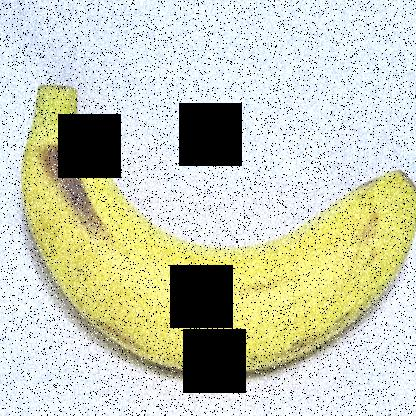freshripe: (4, 68, 415, 390)
